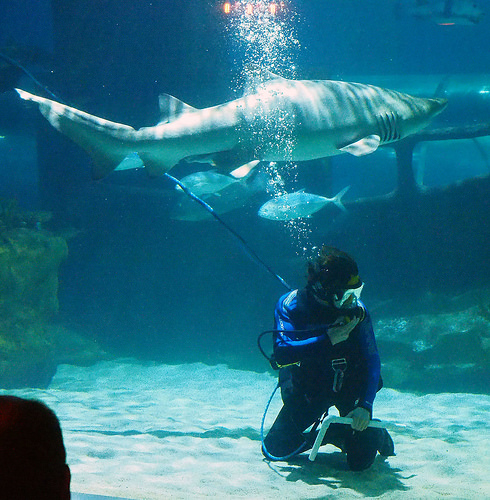shark: (14, 61, 459, 185)
